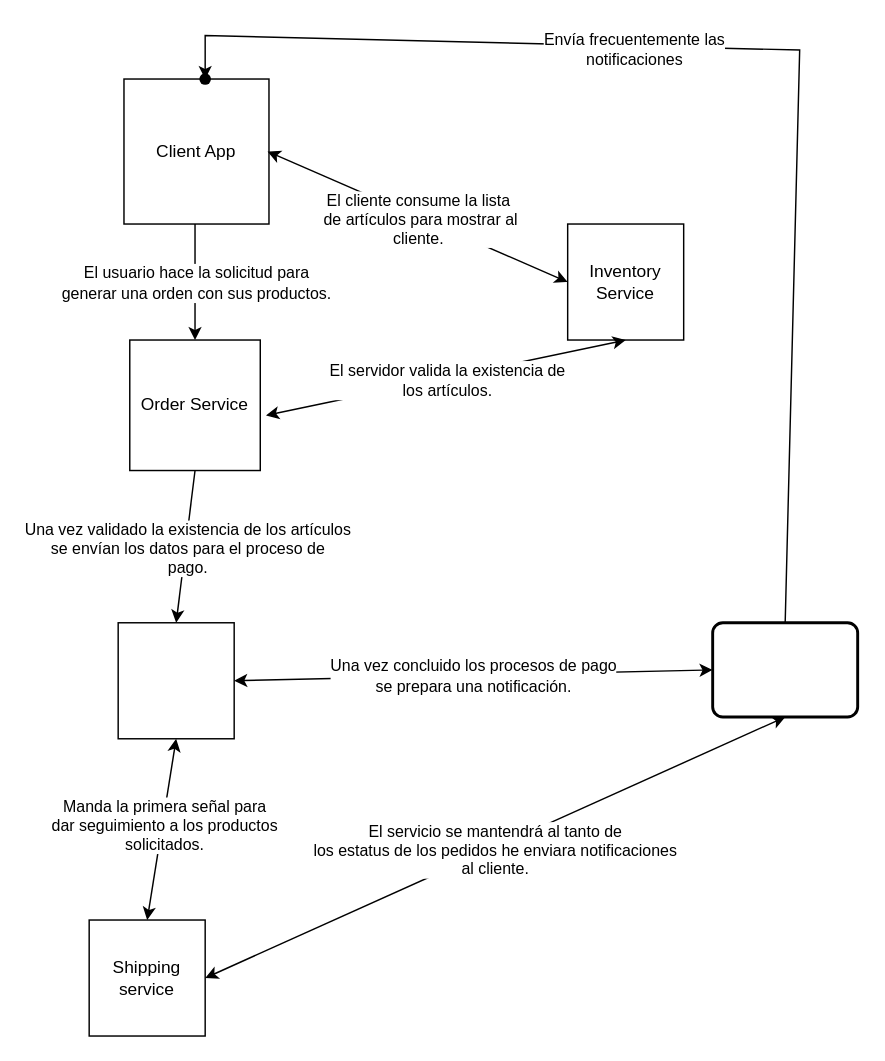
Some shapes in this 885 by 1061 pixel diagram are drawn without their labels. Here are the shapes that lost their labels. From the top down, the box of each, then its label:
(117, 621, 234, 739): Payment Service
(710, 621, 858, 718): Notification Service
